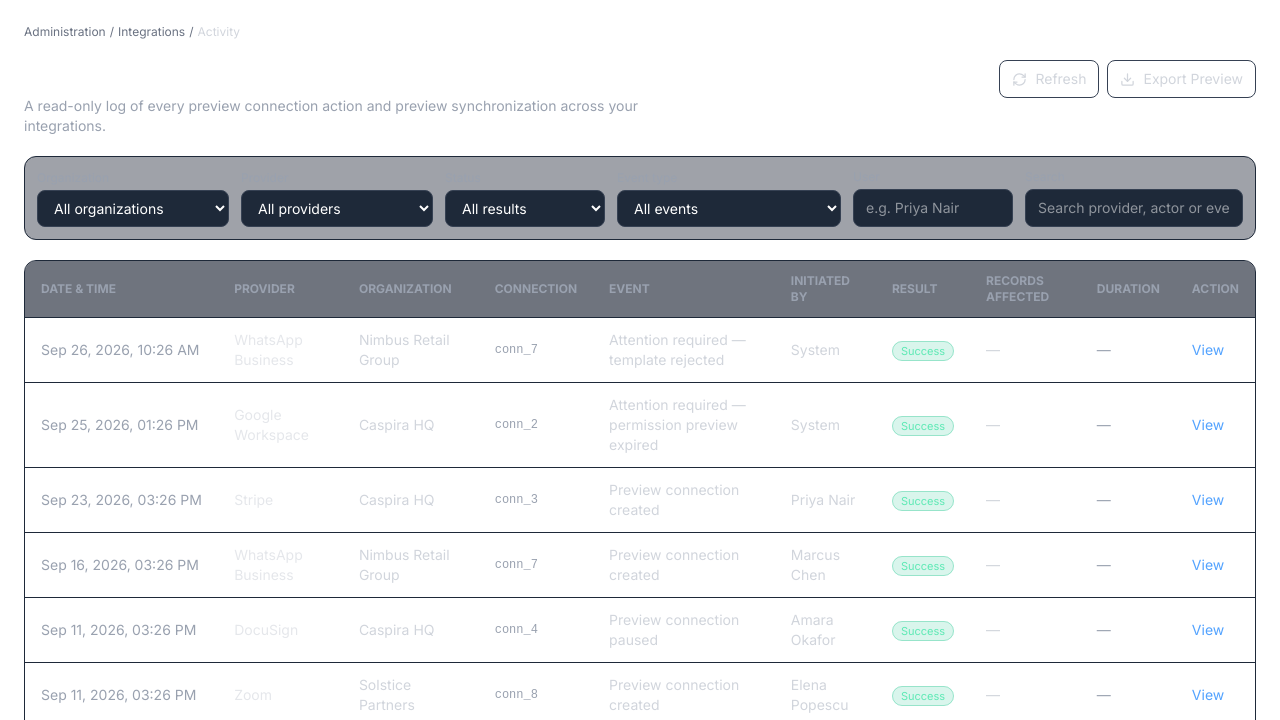
Test: IntegrationActivity › opens the detail drawer without exposing secrets or credential metadata
Click the button "View" in the row of "Sep 26, 2026, 10:26 AM" at (1208, 350), box [1192,340,1224,360]
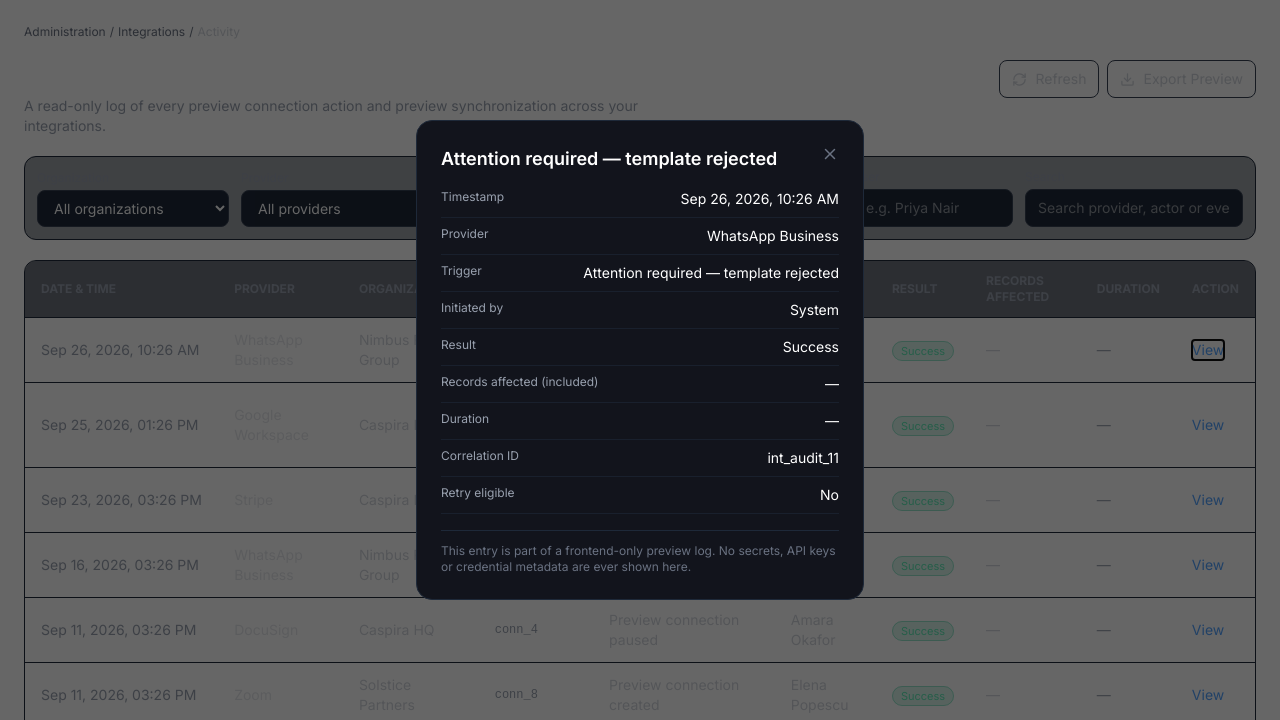
Expected: the dialog shows "No secrets, API keys or credential metadata are ever shown here", [441,543,836,574]
